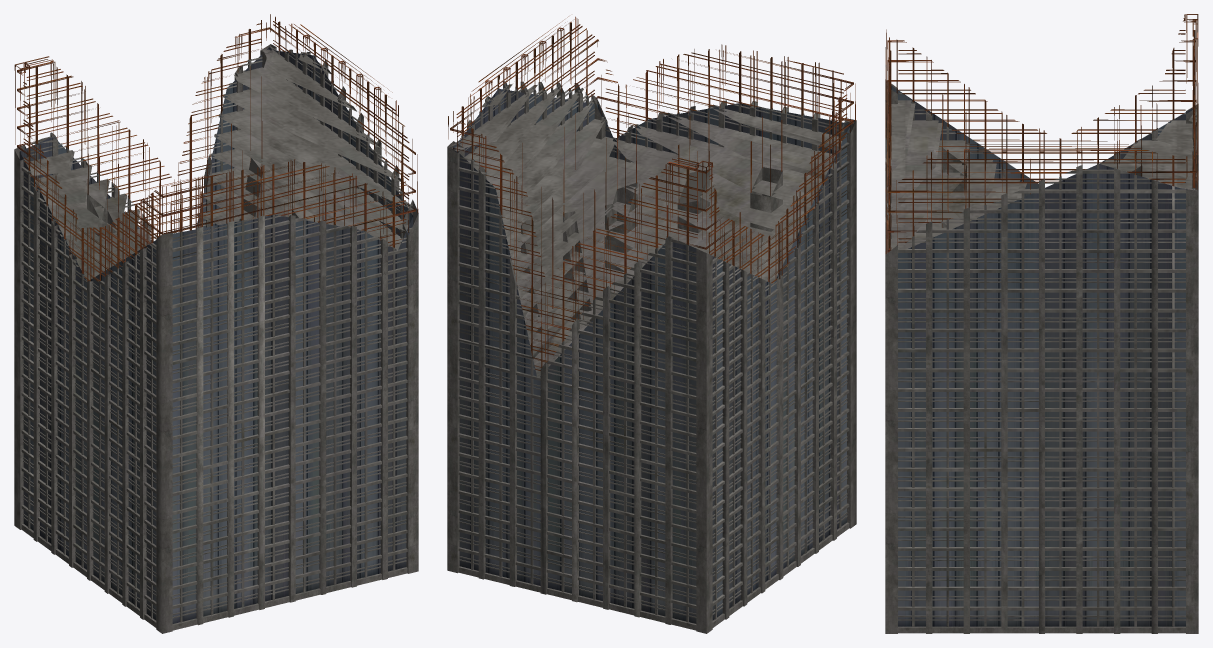
The model's file is ruin-1.glb.
The picture shows the model from 3 angles, left to right: view 1: azimuth 30°, elevation 25°; view 2: azimuth 150°, elevation 25°; view 3: azimuth 270°, elevation 25°; orthographic projection. The views are drawn at different scales.
Visible parts, largest first — view 1: Building 01; view 2: Building 01; view 3: Building 01.
Part boxes in pixels (left/top/right/bottom): Building 01: left=14, top=14, right=418, bottom=633; Building 01: left=447, top=16, right=856, bottom=633; Building 01: left=885, top=14, right=1198, bottom=633.
Size of the model in its own units: 3.14 by 5.4 by 3.14.
Materials: 3 (3 with a texture image).
